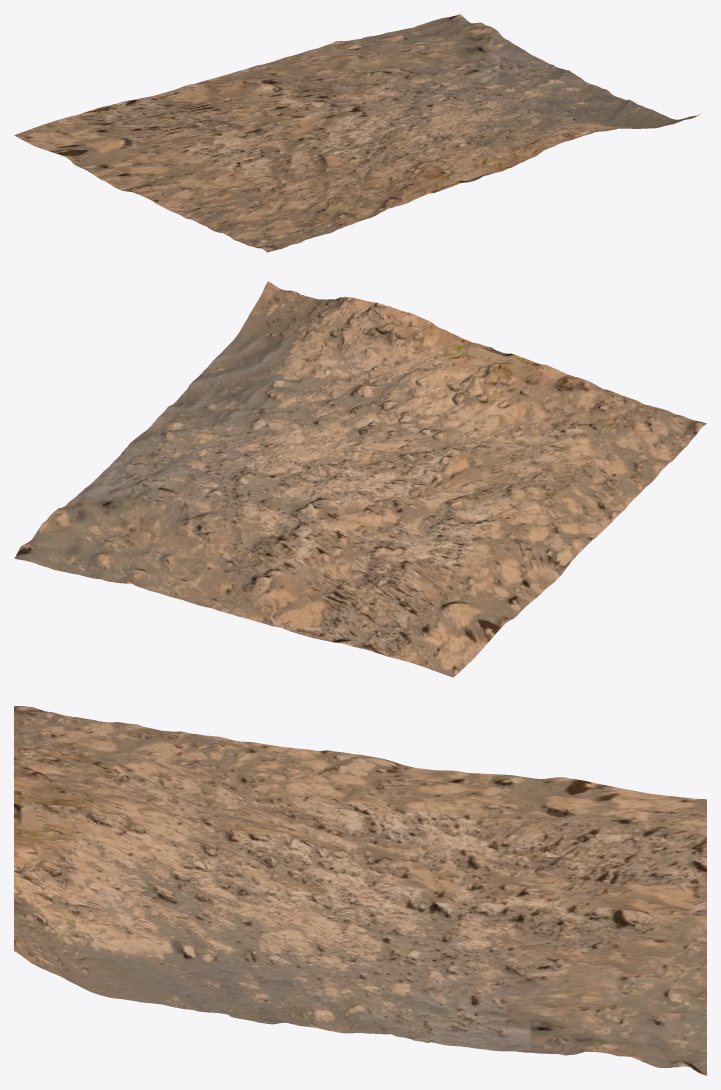
3 renders of one model, top to bottom at view 1: azimuth 30°, elevation 25°; view 2: azimuth 150°, elevation 25°; view 3: azimuth 270°, elevation 25°, orthographic. The views are drawn at different scales.
Size of the model in its own units: 16.71 by 3.95 by 16.71.
Materials: 2 (2 with a texture image).
